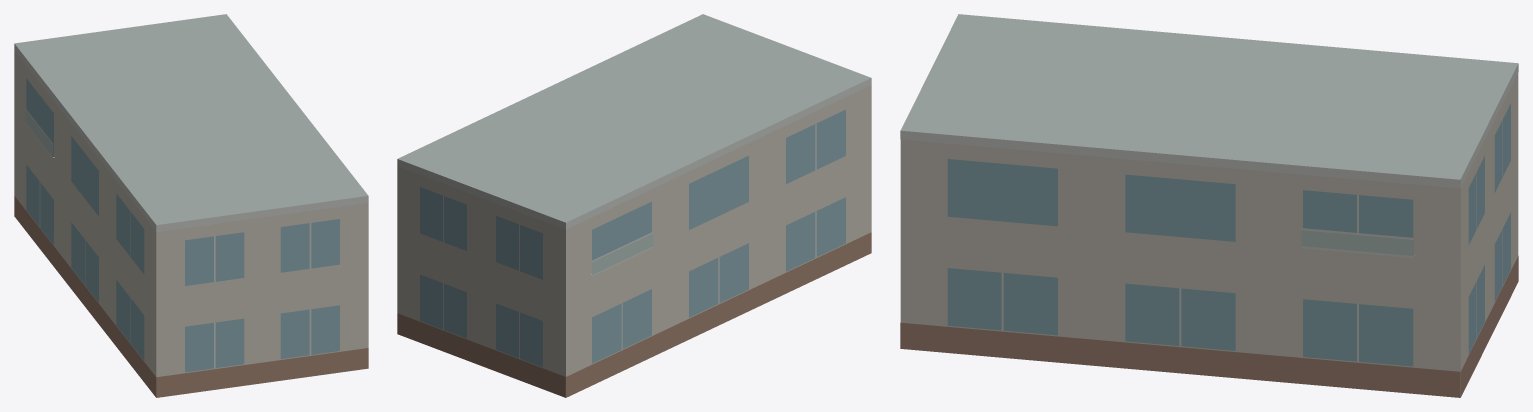
Rendered from survey-upis-32825671.glb.
3 renders of one model, left to right at view 1: azimuth 30°, elevation 25°; view 2: azimuth 150°, elevation 25°; view 3: azimuth 270°, elevation 25°, orthographic. The views are drawn at different scales.
Visible parts, largest first — view 1: survey-upis-32825671.tmp; view 2: survey-upis-32825671.tmp; view 3: survey-upis-32825671.tmp.
Boxes of the visible parts, left/top/right/bottom form: survey-upis-32825671.tmp: left=14, top=14, right=368, bottom=397; survey-upis-32825671.tmp: left=397, top=14, right=871, bottom=397; survey-upis-32825671.tmp: left=900, top=14, right=1518, bottom=397.
Bounding box in the file's own units: 9.95 × 6.1 × 15.68.
